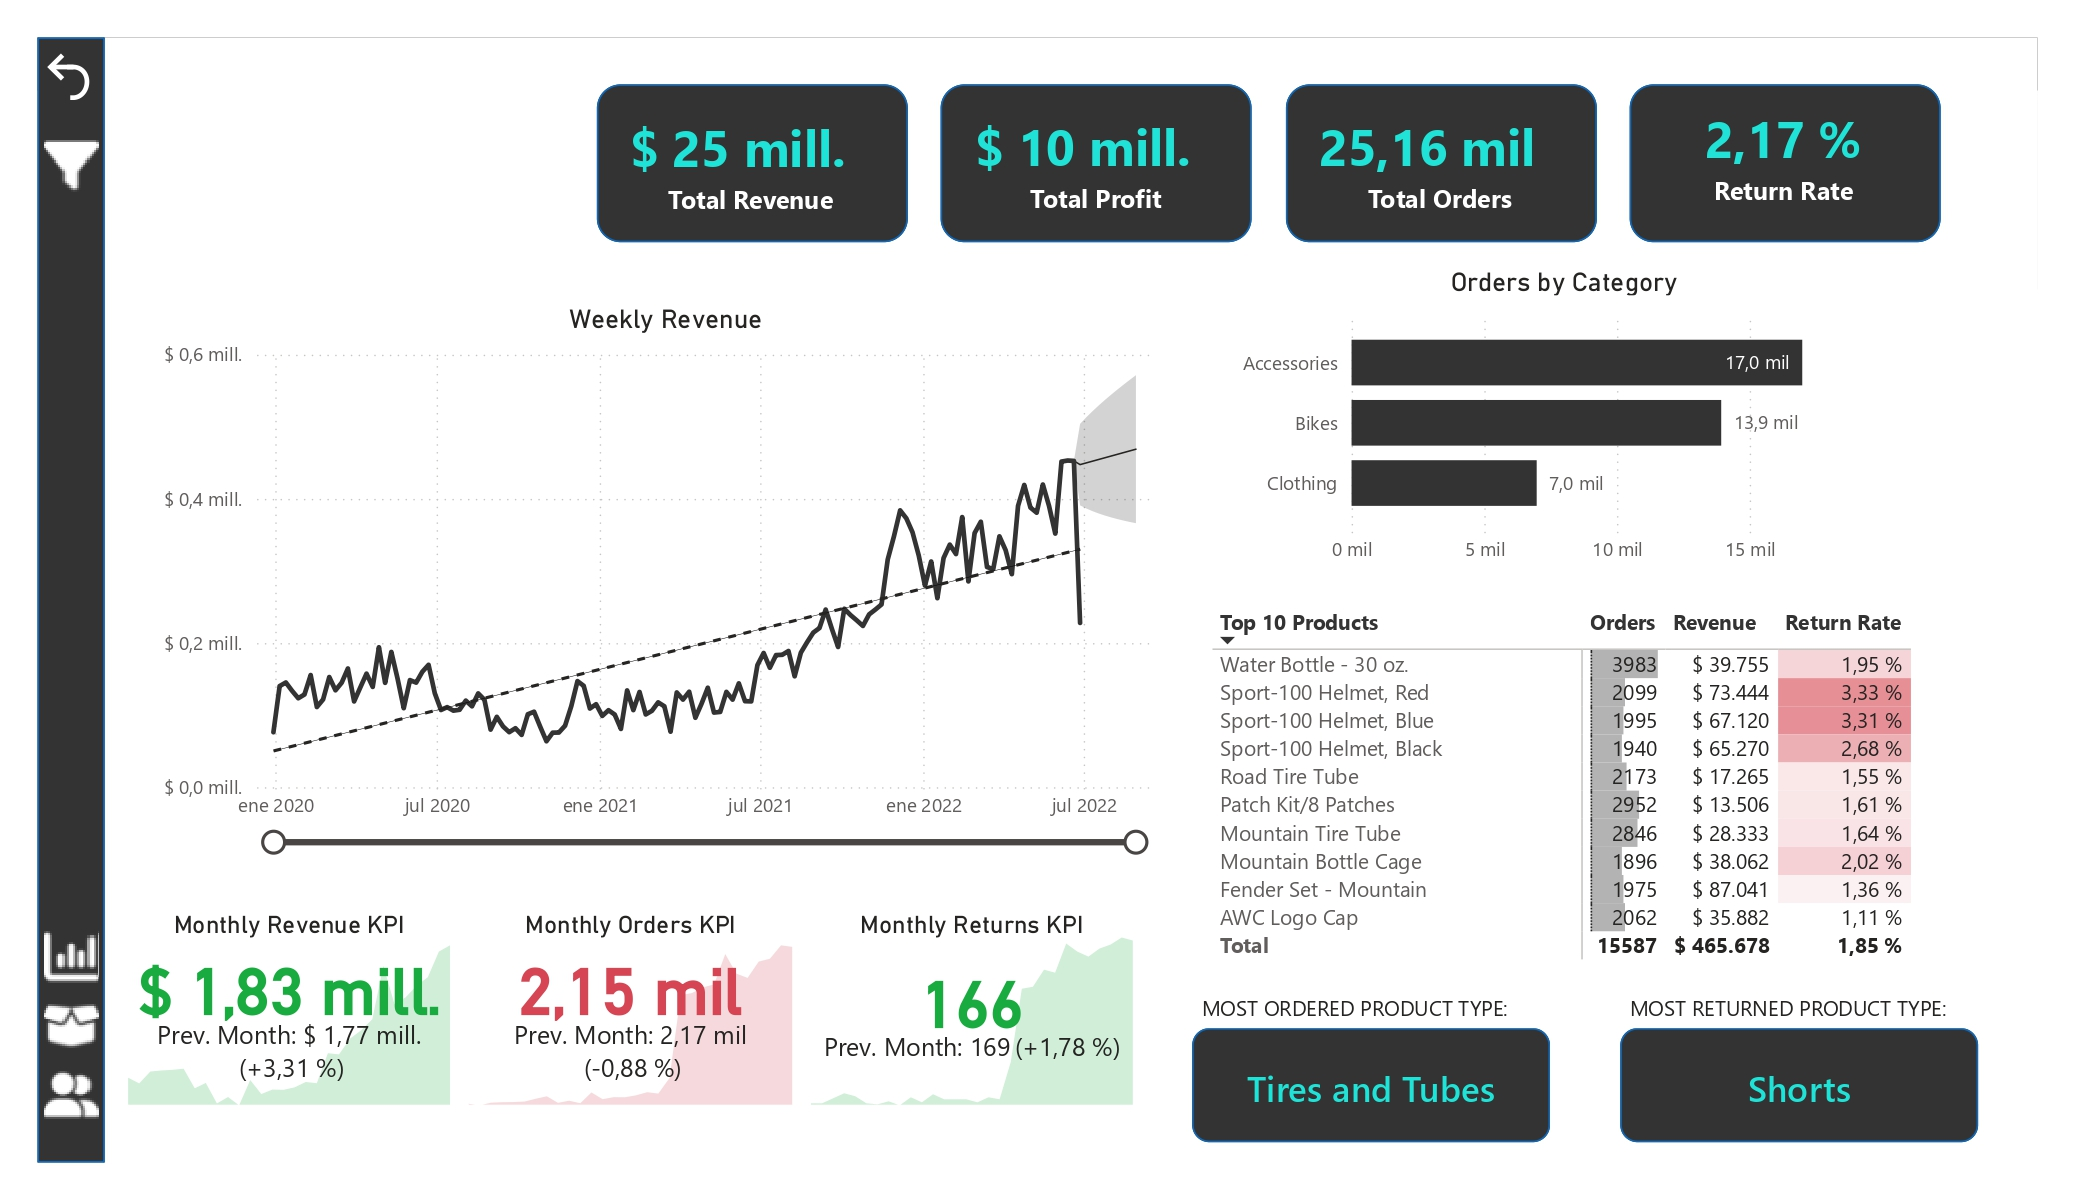

Layout of this report page (visuals, bound fields, positions):
{"tool":"powerbi","page":{"name":"Excec Dashboard","canvas":[1280,720],"ordinal":0},"visuals":[{"type":"cardVisual","fields":{"Data":["Measure Table (DAX).Total Revenue C"]},"box":[350,6.2,213.8,150],"z":0,"group":"g2"},{"type":"shape","box":[358,29.8,198.8,101.2],"z":0,"group":"g1"},{"type":"actionButton","box":[0,566.2,42.8,44],"z":0,"group":"g3"},{"type":"shape","box":[1012.9,634.4,229.6,72.3],"z":0},{"type":"cardVisual","fields":{"Data":["Measure Table (DAX).Return Rate"]},"box":[1011.2,0,213.8,150],"z":1000,"group":"g2"},{"type":"shape","box":[1019.2,29.8,198.8,101.2],"z":1000,"group":"g1"},{"type":"actionButton","box":[0,610.2,42.8,44],"z":1000,"group":"g3"},{"type":"shape","box":[738.8,634.4,229.6,72.3],"z":1000},{"type":"shape","title":"Left Nav bar","box":[0,0,42.5,720],"z":2000},{"type":"cardVisual","fields":{"Data":["Measure Table (DAX).Total Orders"]},"box":[791.2,5,213.8,150],"z":2000,"group":"g2"},{"type":"shape","box":[578.4,29.8,198.8,101.2],"z":2000,"group":"g1"},{"type":"actionButton","box":[0,654.2,42.8,44],"z":2000,"group":"g3"},{"type":"cardVisual","fields":{"Data":["Measure Table (DAX).Total Profit"]},"box":[571.2,5,213.8,150],"z":3000,"group":"g2"},{"type":"shape","box":[798.8,29.8,198.8,101.2],"z":3000,"group":"g1"},{"type":"actionButton","box":[0,58.7,42.8,44],"z":3000},{"type":"group","id":"g1","title":"KPI Bkgds","box":[358,29.8,860,101.2],"z":4000},{"type":"group","id":"g2","title":"KPIs","box":[350,0,875,156.2],"z":5000},{"type":"lineChart","title":"Weekly Revenue","fields":{"Y":["Measure Table (DAX).Total Revenue"],"Category":["Calendar Lookup.Start of week.Variación.Jerarquía de fechas.Año","Calendar Lookup.Start of week.Variación.Jerarquía de fechas.Trimestre","Calendar Lookup.Start of week.Variación.Jerarquía de fechas.Mes","Calendar Lookup.Start of week.Variación.Jerarquía de fechas.Día"]},"box":[74.6,170,654.2,355.8],"z":6000},{"type":"kpi","title":"Monthly Revenue KPI","fields":{"Indicator":["Measure Table (DAX).Total Revenue"],"TrendLine":["Calendar Lookup.Start of Month"],"Goal":["Measure Table (DAX).Previous Month Revenue"]},"box":[52.5,557.5,216.2,130],"z":7000},{"type":"kpi","title":"Monthly Orders KPI","fields":{"TrendLine":["Calendar Lookup.Start of Month"],"Indicator":["Measure Table (DAX).Total Orders"],"Goal":["Measure Table (DAX).Previous Month Orders"]},"box":[271.2,557.5,216.2,130],"z":8000},{"type":"kpi","title":"Monthly Returns KPI","fields":{"TrendLine":["Calendar Lookup.Start of Month"],"Goal":["Measure Table (DAX).Previous Month Returns"],"Indicator":["Measure Table (DAX).Total Returns"]},"box":[490,557.5,216.2,130],"z":9000},{"type":"clusteredBarChart","title":"Orders by Category","fields":{"Category":["Product Categories Lookup.CategoryName"],"Y":["Measure Table (DAX).Total Orders"]},"box":[761.2,146.2,431.2,200],"z":10000},{"type":"pivotTable","fields":{"Rows":["Product Lookup.ProductName"],"Values":["Measure Table (DAX).Total Orders","Measure Table (DAX).Total Revenue","Measure Table (DAX).Return Rate"]},"box":[747.2,359.5,500.1,247],"z":11000},{"type":"cardVisual","fields":{"Data":["Measure Table (DAX).Most Ordered Product Type"]},"box":[730,637.5,247.5,65],"z":12000},{"type":"textbox","box":[740.2,606.6,237.9,27.8],"z":13000},{"type":"cardVisual","fields":{"Data":["Measure Table (DAX).Most Returned Product Type"]},"box":[1004,637.5,247.5,65],"z":14000},{"type":"textbox","box":[1014.3,606.6,237.9,27.8],"z":15000},{"type":"actionButton","box":[0,4.9,100.3,40.4],"z":16000},{"type":"group","id":"g3","title":"Botones","box":[0,566.2,42.8,132.1],"z":17000}]}

Visuals, with their boxes on the page's 1280x720 design canvas (x1, y1, x2, y2). These are canvas units, not pixel positions in the 2075x1200 screenshot, which may show the page scaled, cropped or inside an application window:
cardVisual - Measure Table (DAX).Total Revenue C: 350:6:564:156
shape: 358:30:557:131
actionButton: 0:566:43:610
shape: 1013:634:1242:707
cardVisual - Measure Table (DAX).Return Rate: 1011:0:1225:150
shape: 1019:30:1218:131
actionButton: 0:610:43:654
shape: 739:634:968:707
"Left Nav bar" shape: 0:0:42:720
cardVisual - Measure Table (DAX).Total Orders: 791:5:1005:155
shape: 578:30:777:131
actionButton: 0:654:43:698
cardVisual - Measure Table (DAX).Total Profit: 571:5:785:155
shape: 799:30:998:131
actionButton: 0:59:43:103
"KPI Bkgds" group: 358:30:1218:131
"KPIs" group: 350:0:1225:156
"Weekly Revenue" lineChart: 75:170:729:526
"Monthly Revenue KPI" kpi: 52:558:269:688
"Monthly Orders KPI" kpi: 271:558:487:688
"Monthly Returns KPI" kpi: 490:558:706:688
"Orders by Category" clusteredBarChart: 761:146:1192:346
pivotTable - Product Lookup.ProductName x Measure Table (DAX).Total Orders: 747:360:1247:606
cardVisual - Measure Table (DAX).Most Ordered Product Type: 730:638:978:702
textbox: 740:607:978:634
cardVisual - Measure Table (DAX).Most Returned Product Type: 1004:638:1252:702
textbox: 1014:607:1252:634
actionButton: 0:5:100:45
"Botones" group: 0:566:43:698
